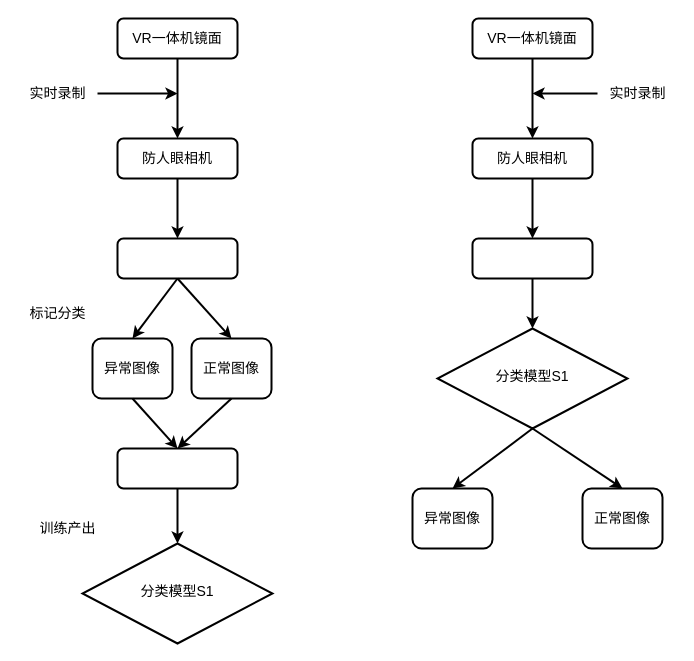
Some shapes in this 694 by 661 pixel diagram are drawn without their labels. The box of each missing label's shape, as (x1, y1, x2, y2) in pixels:
深度学习训练器: (116, 447, 238, 489)
视频自动拆帧: (471, 237, 593, 279)
视频自动拆帧分析: (116, 237, 238, 279)
